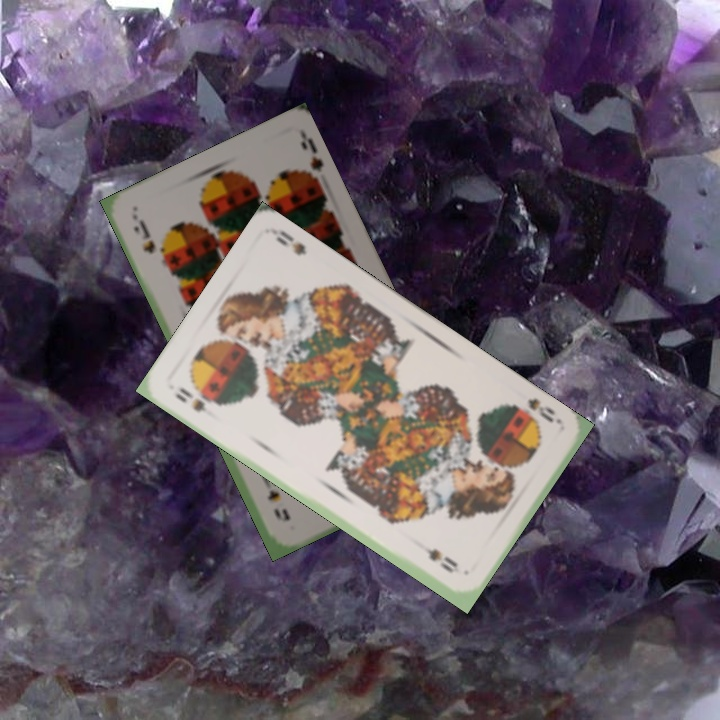S9: (129, 222, 158, 257)
SO: (505, 394, 565, 430), (171, 383, 209, 415)
